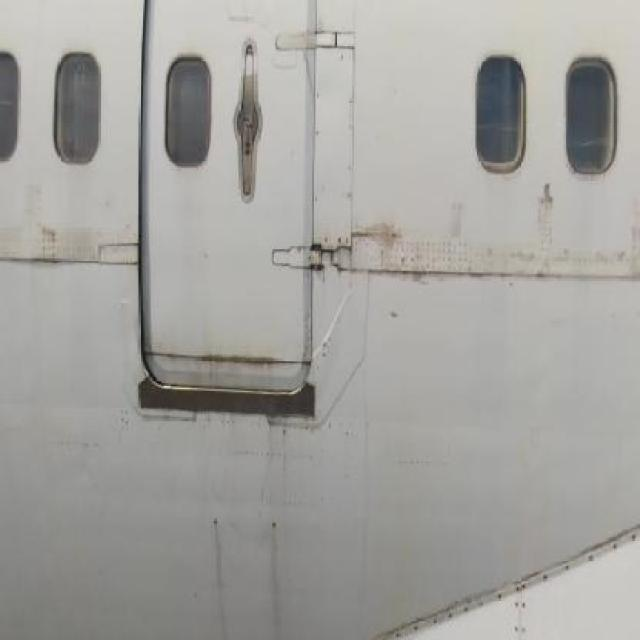Missing-Rivet: (437, 522, 632, 626)
Rust: (256, 512, 296, 638), (200, 513, 234, 633), (360, 218, 418, 272), (194, 345, 286, 377), (33, 224, 72, 276)
Scartch: (534, 177, 566, 265), (444, 182, 468, 244), (621, 203, 640, 281)
